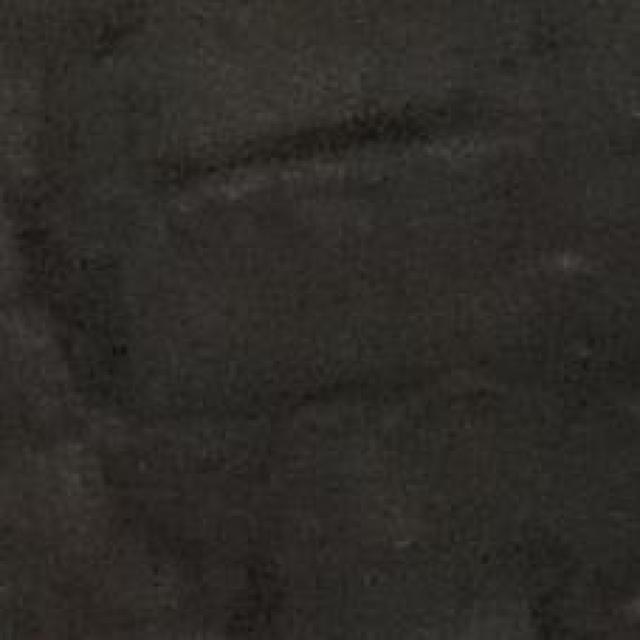Crack: (0, 0, 583, 431)
